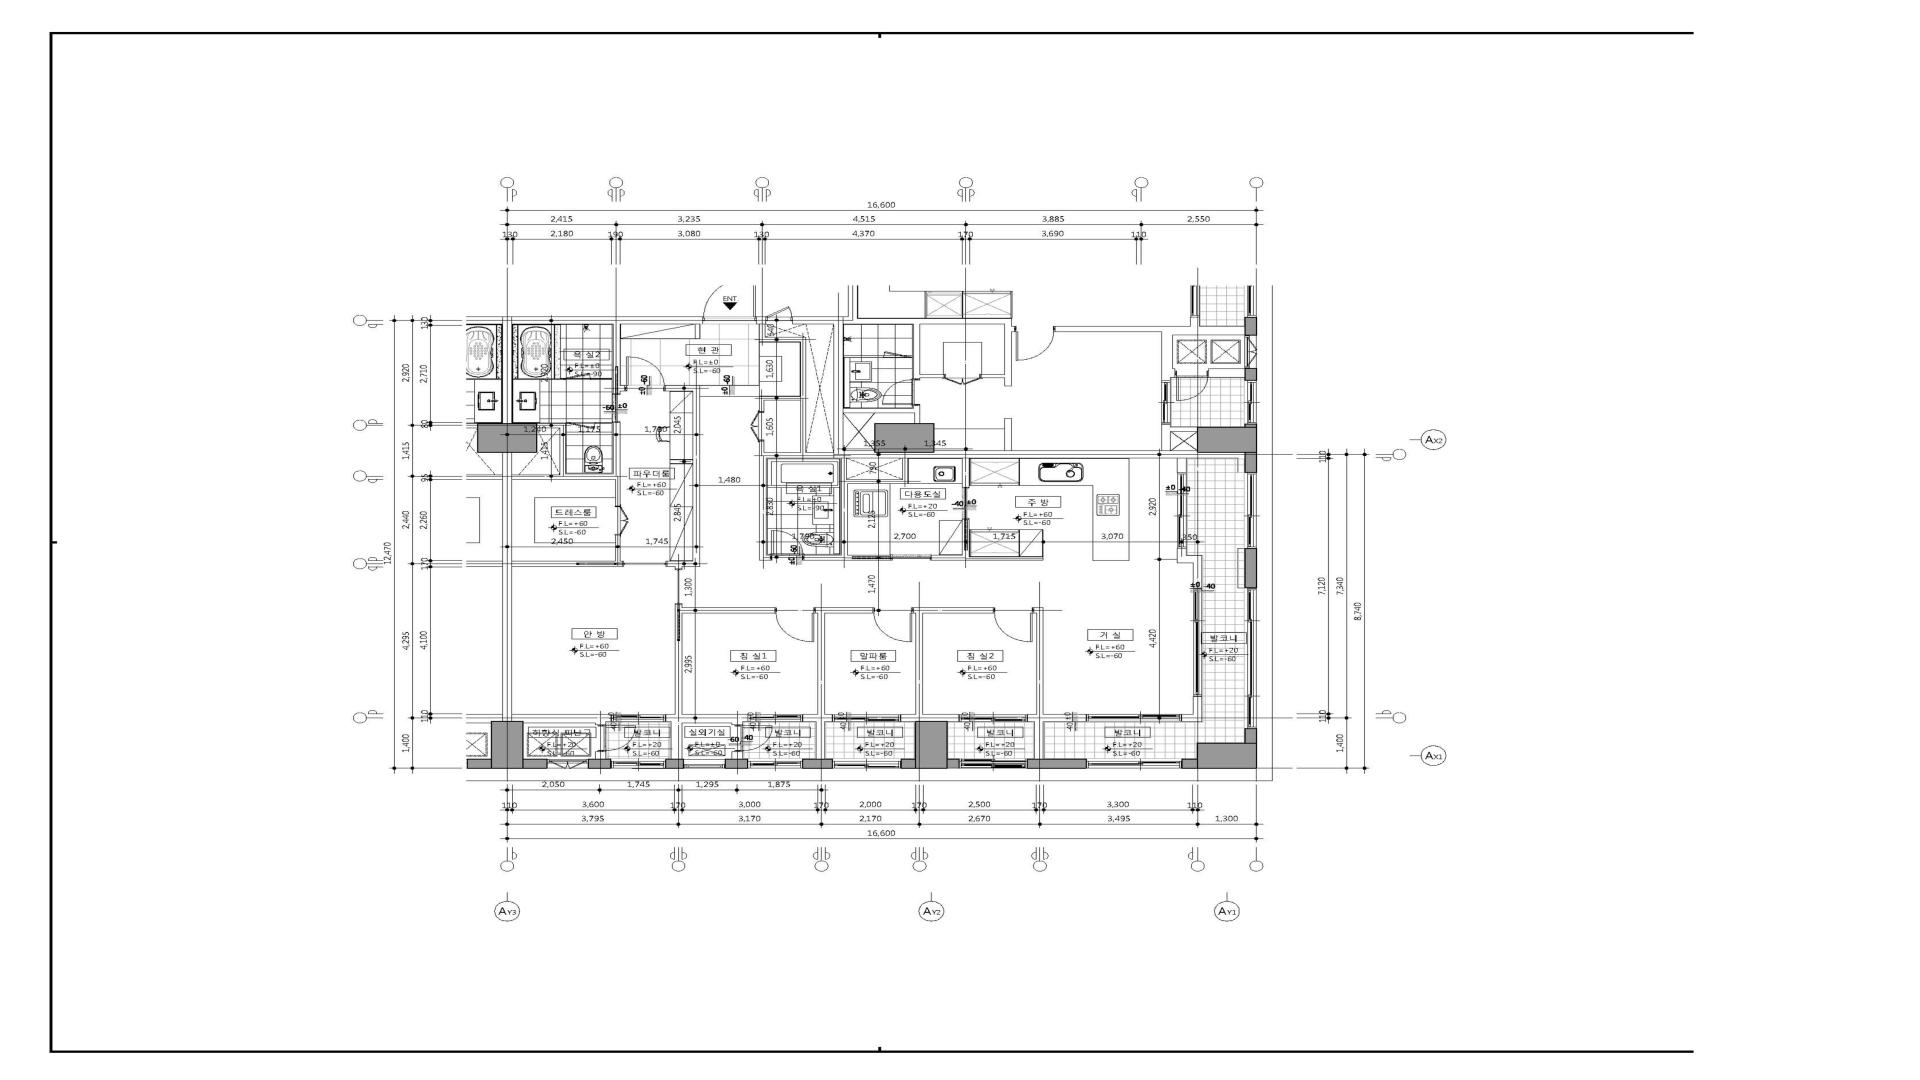door: (703, 285, 757, 320), (625, 356, 666, 392), (774, 608, 816, 642), (993, 608, 1034, 642), (873, 608, 914, 642), (770, 530, 804, 560), (597, 725, 636, 752), (735, 725, 773, 752), (576, 560, 667, 567), (963, 487, 971, 550), (675, 568, 682, 641), (612, 367, 620, 423), (852, 555, 931, 560), (766, 306, 793, 320), (566, 373, 591, 380), (571, 422, 596, 429)
wall: (844, 451, 1245, 459), (502, 452, 512, 721), (477, 422, 537, 452), (874, 423, 935, 452), (1197, 742, 1257, 769), (915, 721, 948, 769), (491, 721, 524, 769), (512, 316, 703, 324), (1197, 427, 1257, 452), (833, 324, 844, 458), (692, 392, 700, 567), (501, 316, 513, 423), (931, 550, 1043, 560), (760, 459, 770, 560), (512, 715, 611, 725), (1176, 549, 1203, 588), (1034, 608, 1043, 715), (666, 713, 748, 725), (818, 613, 825, 715), (915, 613, 923, 715), (612, 422, 620, 506), (841, 458, 848, 555), (1027, 758, 1087, 769), (675, 641, 683, 715), (800, 343, 806, 452), (1027, 713, 1087, 723), (1182, 696, 1203, 721), (760, 452, 835, 459), (682, 608, 775, 613), (1245, 549, 1257, 588), (901, 713, 959, 721), (671, 723, 683, 760), (512, 560, 576, 567), (914, 608, 994, 613), (793, 316, 844, 324), (559, 429, 567, 480), (612, 324, 621, 367), (1034, 721, 1043, 758), (816, 721, 825, 758), (802, 758, 833, 769), (815, 608, 873, 613), (567, 473, 612, 480), (724, 758, 748, 769), (512, 475, 559, 480), (804, 555, 852, 560), (524, 758, 547, 769), (848, 480, 909, 484), (588, 758, 611, 769), (1245, 452, 1257, 472), (666, 385, 700, 392), (665, 758, 684, 769), (766, 338, 806, 343), (963, 458, 969, 488), (803, 715, 833, 721), (667, 560, 692, 568), (765, 396, 800, 401), (1245, 728, 1257, 742), (1182, 758, 1197, 769), (537, 423, 567, 429), (901, 758, 915, 769), (902, 458, 909, 480), (1178, 459, 1187, 473), (948, 758, 960, 769), (760, 324, 766, 343), (670, 459, 692, 464), (758, 396, 765, 413), (616, 534, 620, 562), (732, 752, 744, 760), (595, 752, 607, 758), (695, 324, 700, 339), (757, 316, 766, 324), (513, 378, 566, 380), (760, 440, 765, 452), (537, 422, 571, 423), (620, 385, 625, 392), (591, 378, 612, 380), (596, 422, 612, 423)
window: (1245, 588, 1257, 729), (1087, 758, 1182, 769), (1193, 588, 1203, 696), (1245, 472, 1257, 549), (832, 758, 901, 769), (960, 758, 1027, 769), (1178, 473, 1187, 549), (1087, 715, 1182, 721), (611, 758, 666, 769), (748, 758, 802, 769), (959, 715, 1027, 723), (832, 715, 901, 721), (547, 760, 588, 769), (611, 715, 666, 721), (684, 760, 724, 769), (748, 715, 803, 721)
